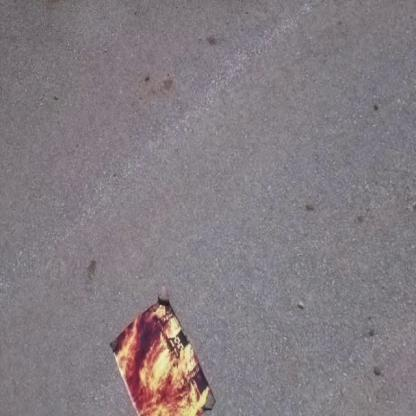fire-poster: (108, 290, 216, 415)
